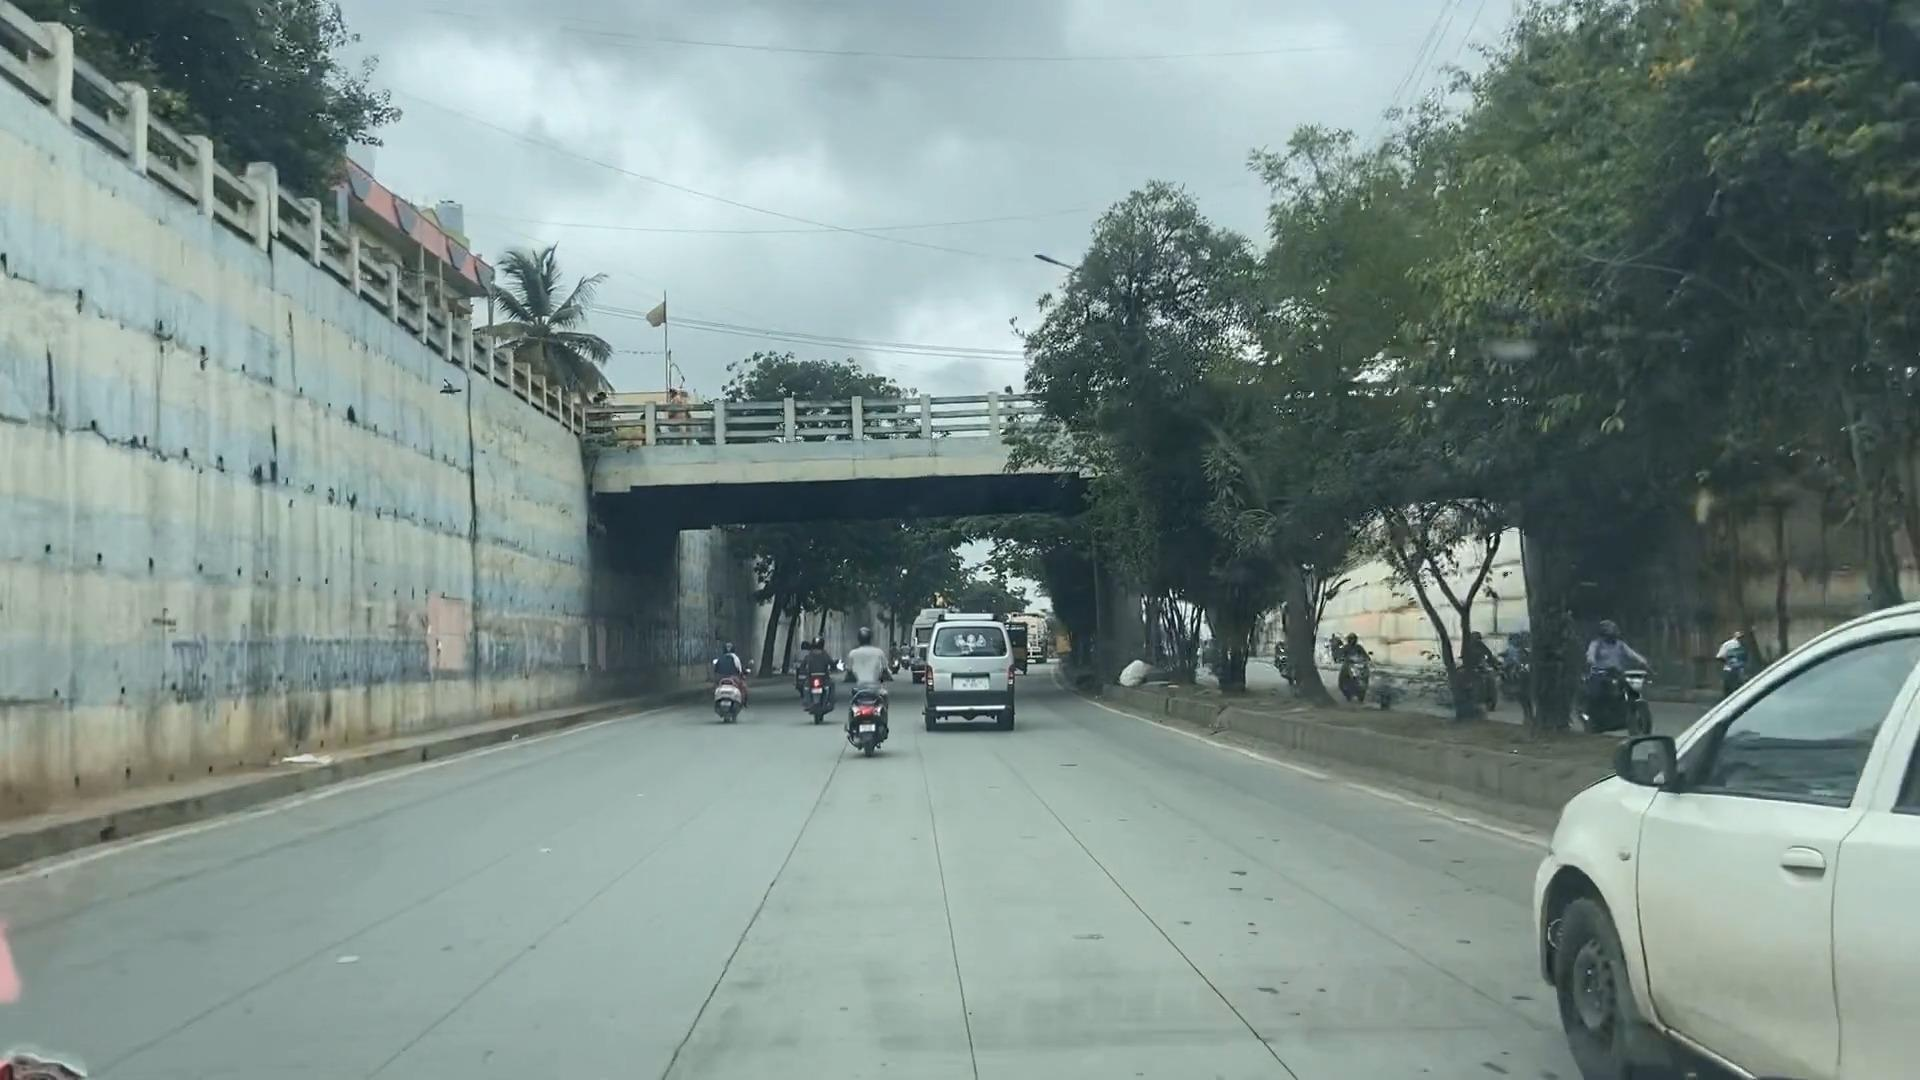LMV: (1526, 675, 1920, 1048)
